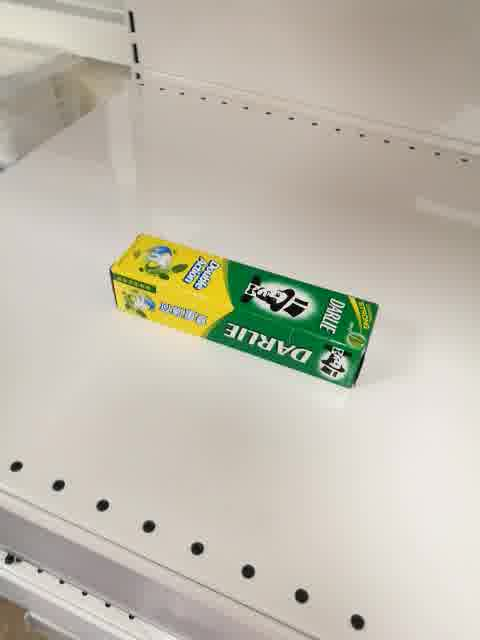toothpaste: (108, 233, 378, 390)
